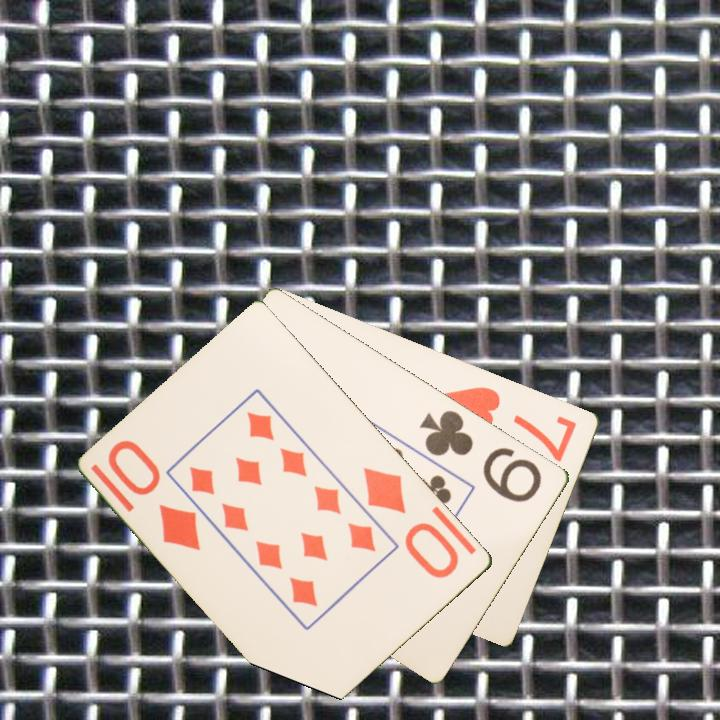10d: (360, 463, 463, 582), (104, 436, 205, 554)
7h: (441, 382, 580, 465)
9c: (416, 406, 546, 506)
